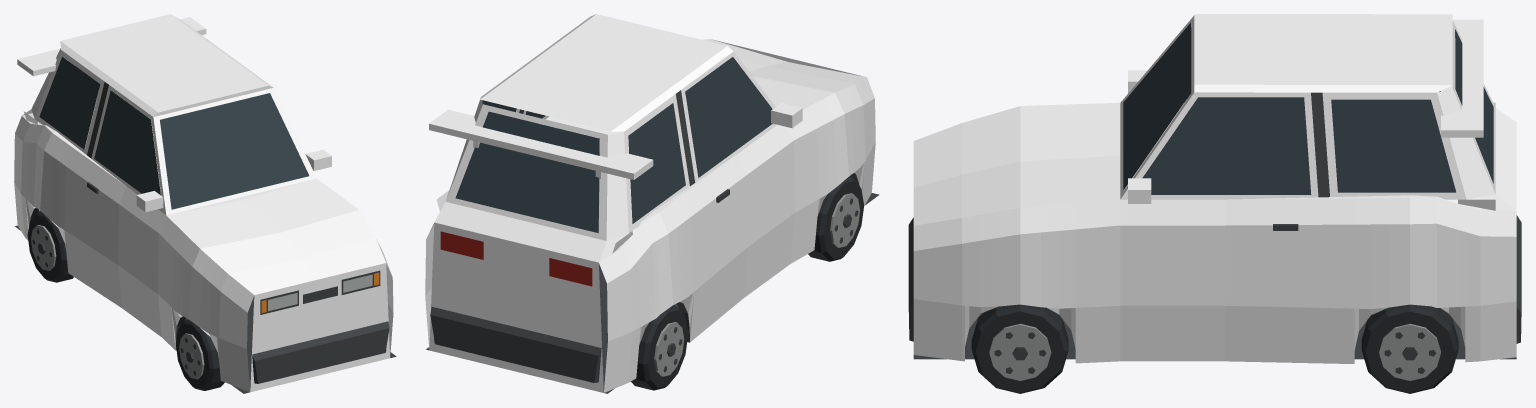
File: dunmere_wherry_corrida.glb
3 renders of one model, left to right at view 1: azimuth 30°, elevation 25°; view 2: azimuth 150°, elevation 25°; view 3: azimuth 270°, elevation 25°, orthographic. The views are drawn at different scales.
Parts seen in each view (by area): view 1: dunmere_wherry_corrida; view 2: dunmere_wherry_corrida; view 3: dunmere_wherry_corrida.
Boxes of the visible parts, box(x1,y1,x2,y2) form: dunmere_wherry_corrida: box(14, 14, 396, 393); dunmere_wherry_corrida: box(425, 14, 879, 393); dunmere_wherry_corrida: box(908, 14, 1521, 393).
Bounding box in the file's own units: 1.46 × 1.65 × 3.16.
8 materials, 1 textured.
